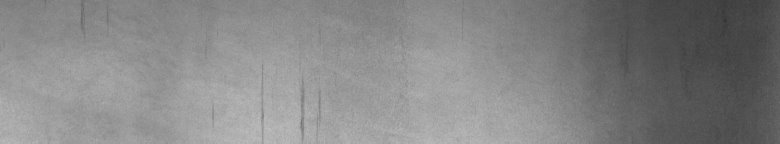ka: (212, 84, 321, 136)
